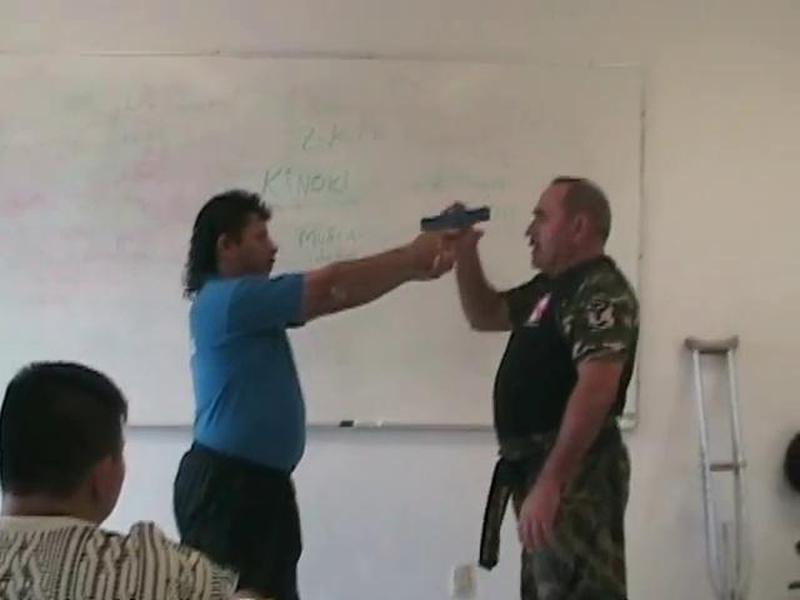Pistola: (416, 191, 519, 287)
